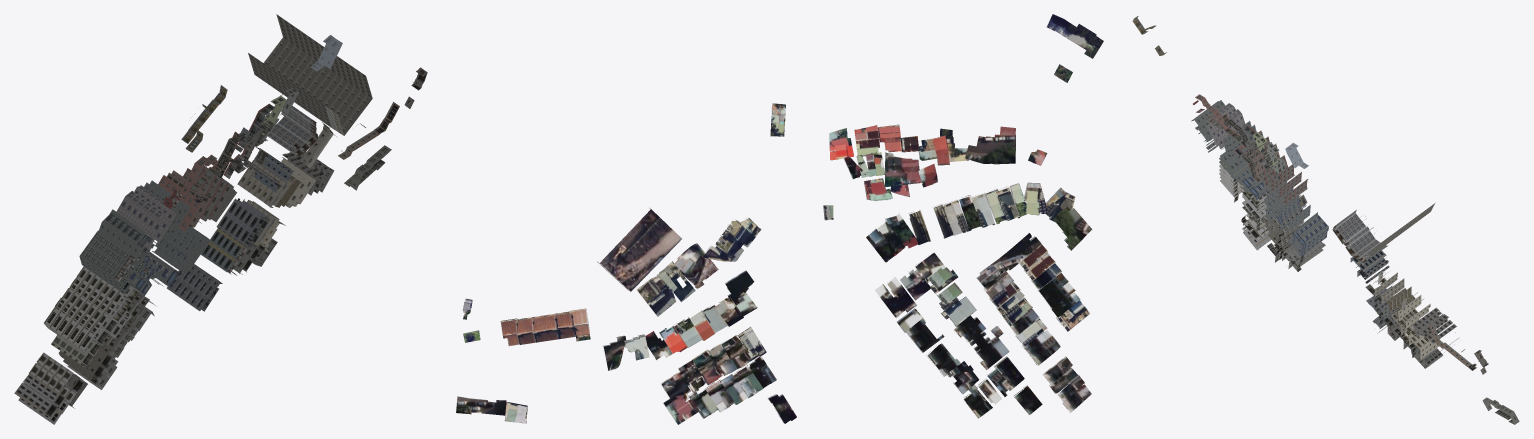
Rendered from tile_LOD8_r4_c7.glb.
The picture shows the model from 3 angles, left to right: view 1: azimuth 30°, elevation 25°; view 2: azimuth 150°, elevation 25°; view 3: azimuth 270°, elevation 25°; orthographic projection. The views are drawn at different scales.
Size of the model in its own units: 290 by 187 by 242.
Materials: 318 (318 with a texture image).
